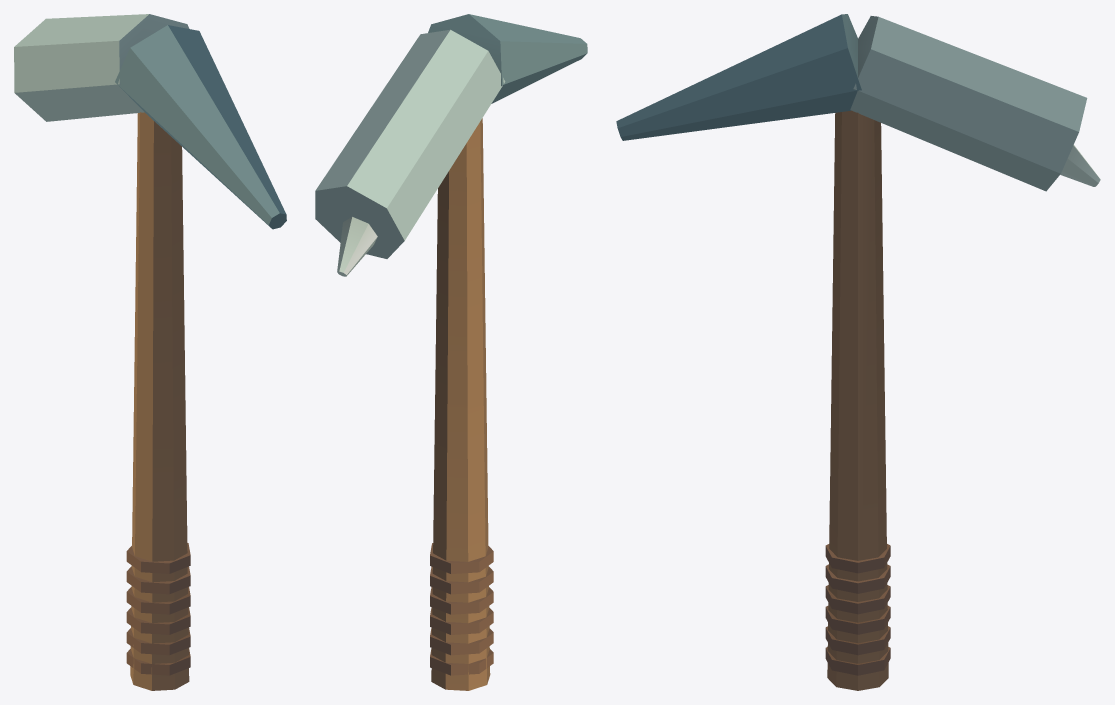
File: star_pickaxe.glb
The picture shows the model from 3 angles, left to right: view 1: azimuth 30°, elevation 25°; view 2: azimuth 150°, elevation 25°; view 3: azimuth 270°, elevation 25°; orthographic projection.
Parts seen in each view (by area): view 1: star_pickaxe; view 2: star_pickaxe; view 3: star_pickaxe.
Part boxes in pixels (box(x1,y1,x2,y2)): star_pickaxe: box(14, 14, 286, 690); star_pickaxe: box(315, 14, 587, 690); star_pickaxe: box(616, 14, 1100, 690).
Bounding box in the file's own units: 0.115 × 0.8111 × 0.5365.
